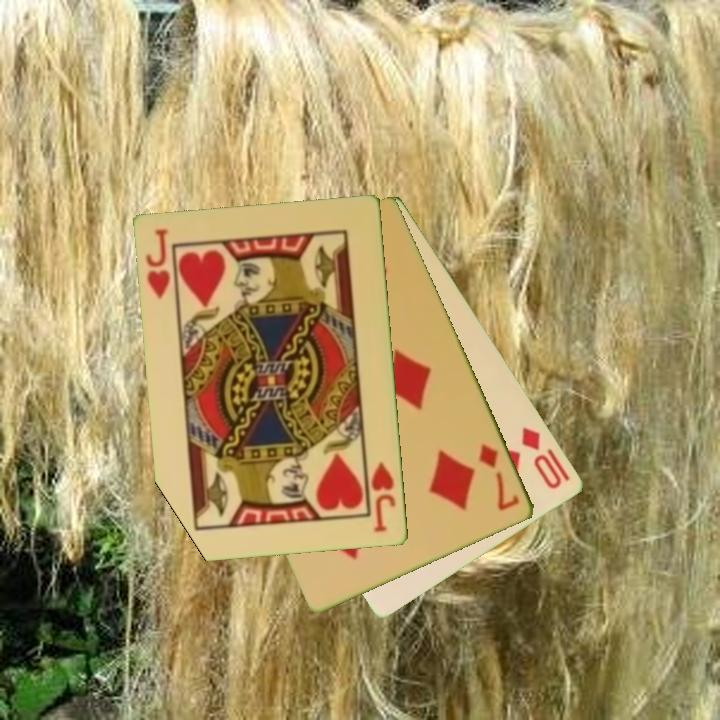10d: (518, 423, 566, 492)
7d: (476, 440, 523, 514)
Jh: (363, 453, 399, 536), (142, 225, 173, 302)
